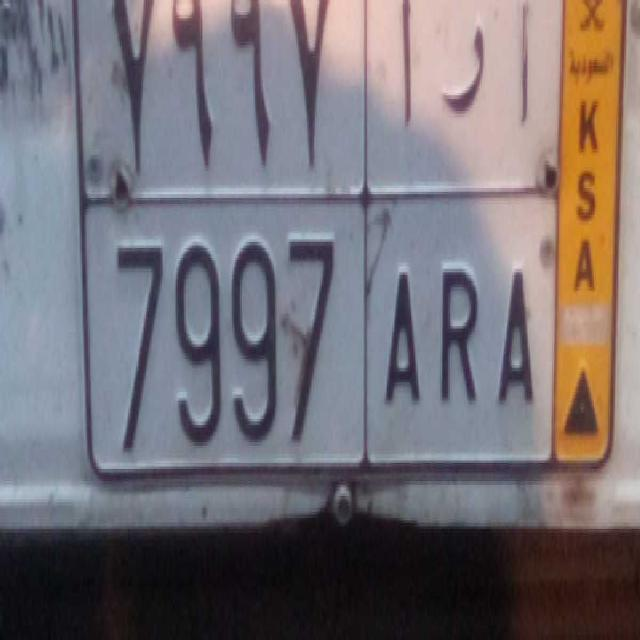license_plate: (86, 179, 560, 474)
